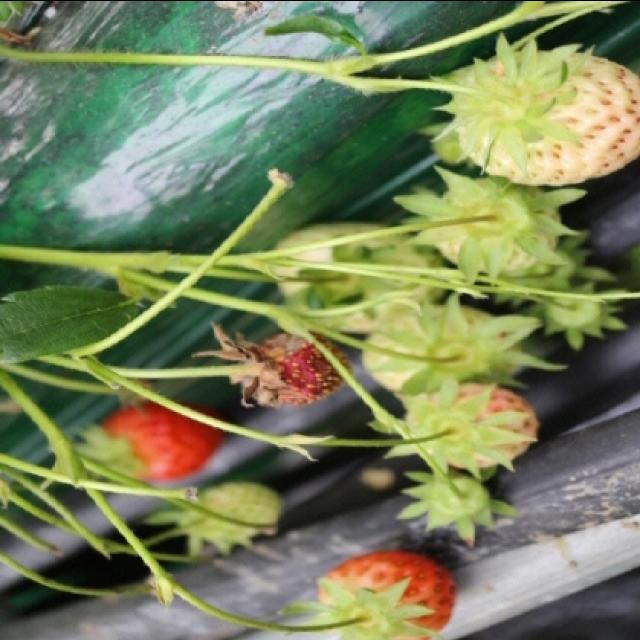Gray Mold: (188, 319, 356, 408)
